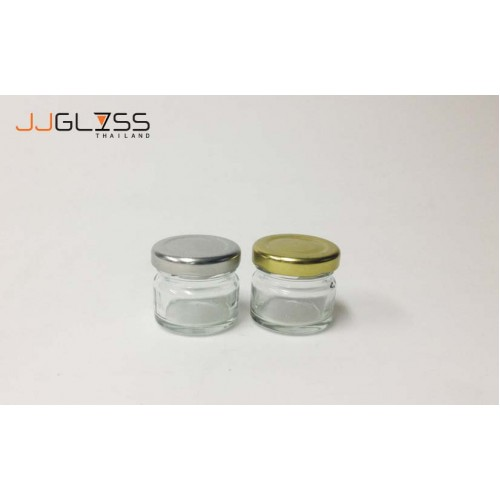glass_bottleww: (238, 183, 360, 384), (126, 211, 250, 369)
